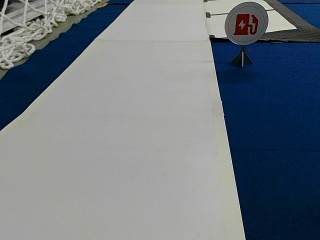battery: (224, 0, 268, 45)
